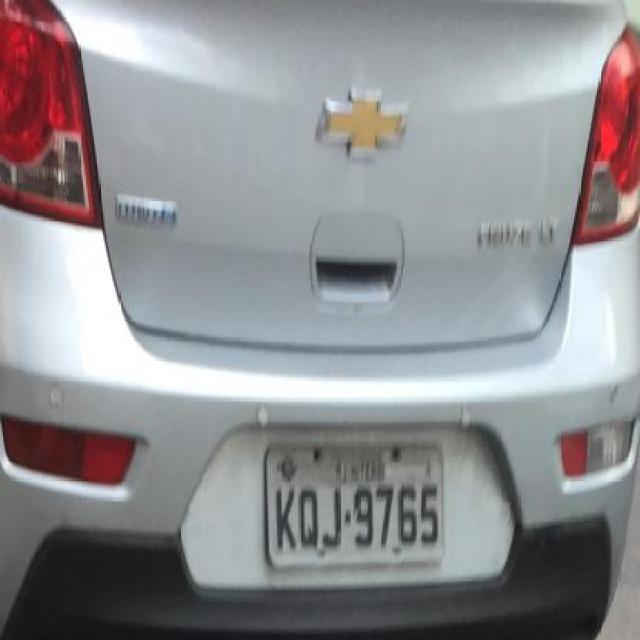old_plate: (260, 436, 449, 572)
